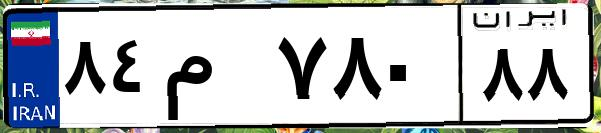0: (385, 28, 445, 110)
4: (110, 28, 158, 98)
7: (270, 28, 330, 110)
8: (330, 28, 385, 110), (57, 26, 110, 100), (475, 38, 525, 113), (525, 38, 570, 115)
م: (158, 20, 270, 120)
